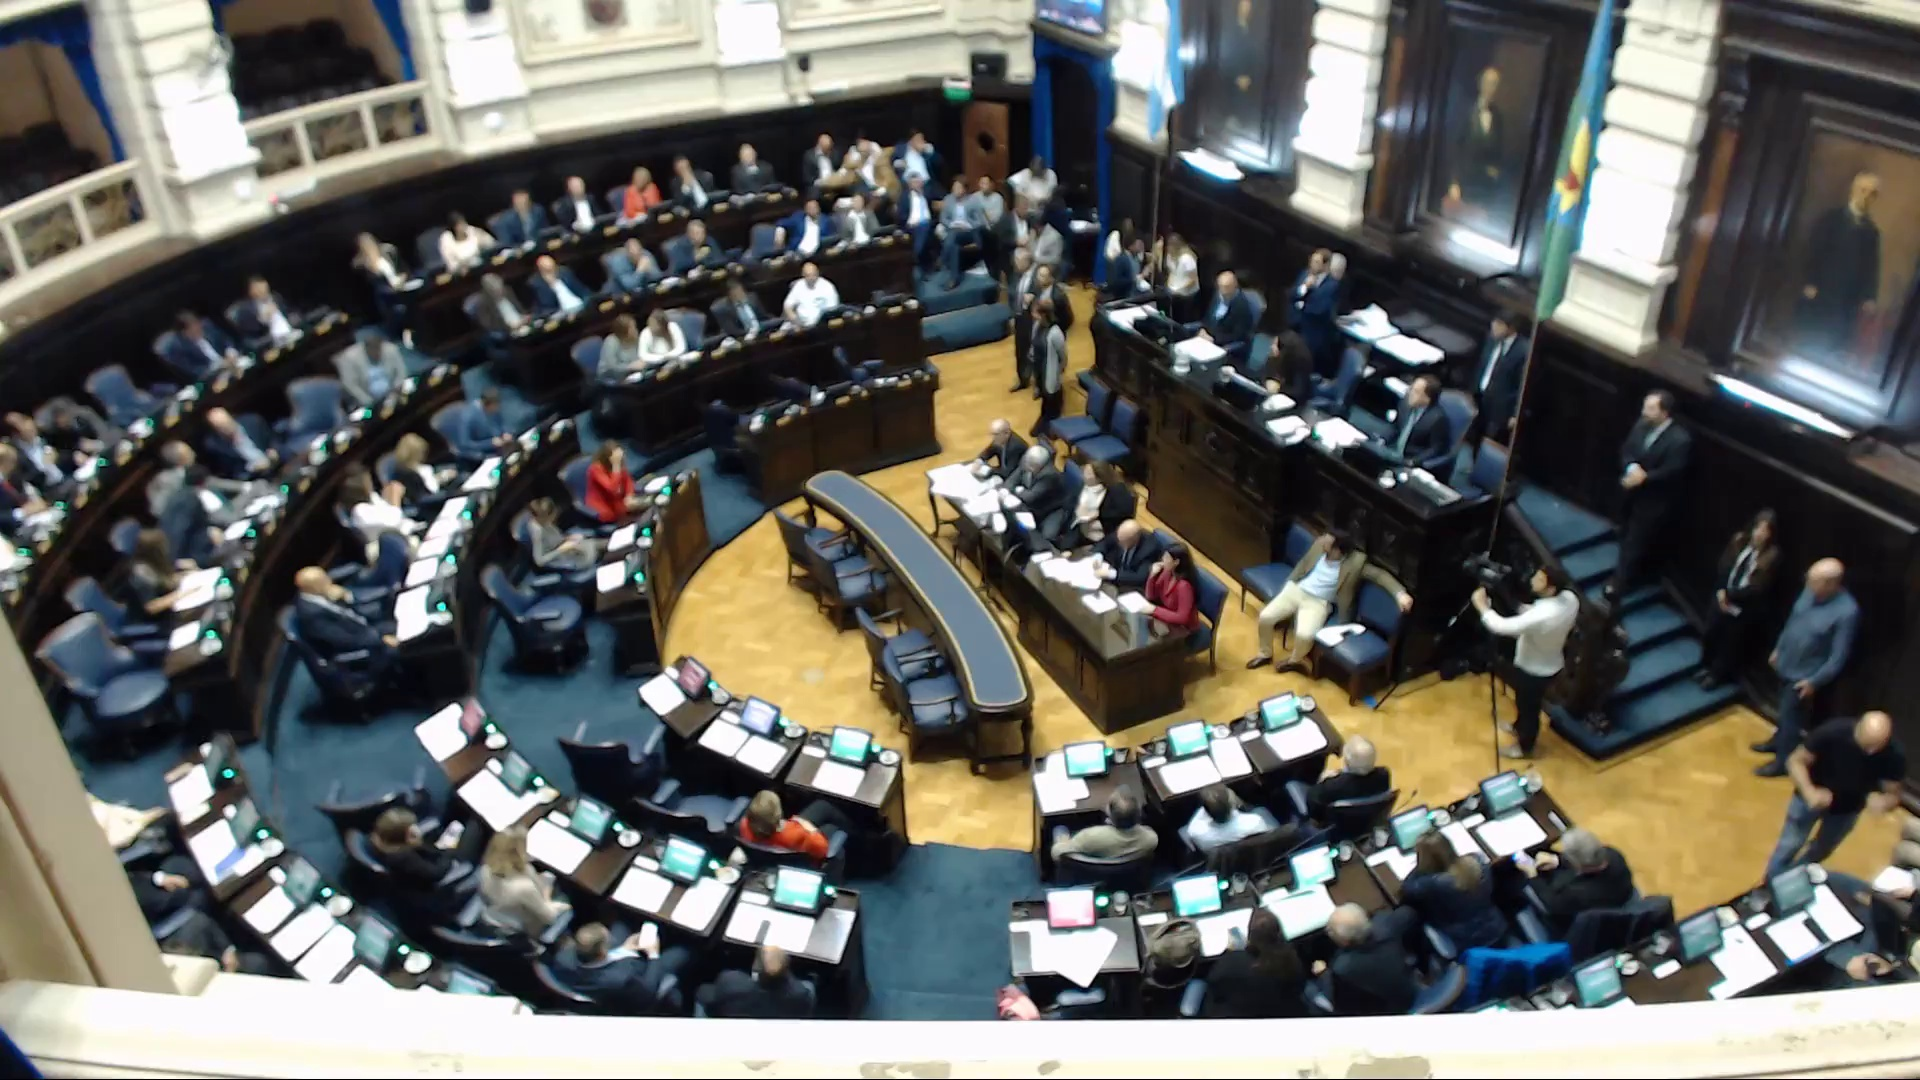person: (1403, 823, 1549, 994), (1526, 804, 1676, 940), (534, 892, 680, 1017), (437, 827, 566, 967), (280, 554, 399, 702), (1309, 894, 1455, 1013), (1170, 906, 1301, 1025), (1164, 754, 1295, 871), (322, 713, 441, 840), (345, 790, 466, 908), (484, 540, 603, 658), (1041, 769, 1155, 890), (687, 917, 822, 1019), (1289, 710, 1401, 831), (551, 675, 670, 788), (995, 935, 1147, 1019), (749, 760, 855, 877), (637, 731, 747, 842), (499, 483, 614, 579), (332, 452, 432, 560), (312, 502, 416, 600), (368, 419, 468, 515), (557, 427, 651, 519), (428, 372, 526, 460)
